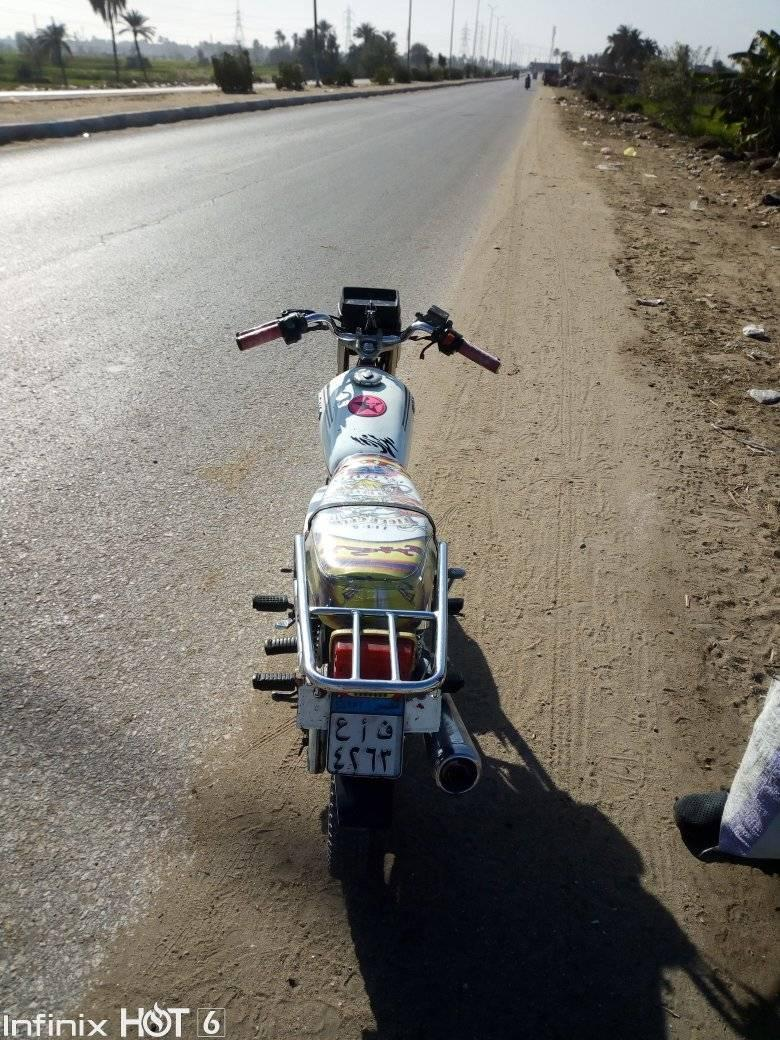License Plate: (329, 685, 411, 780)
